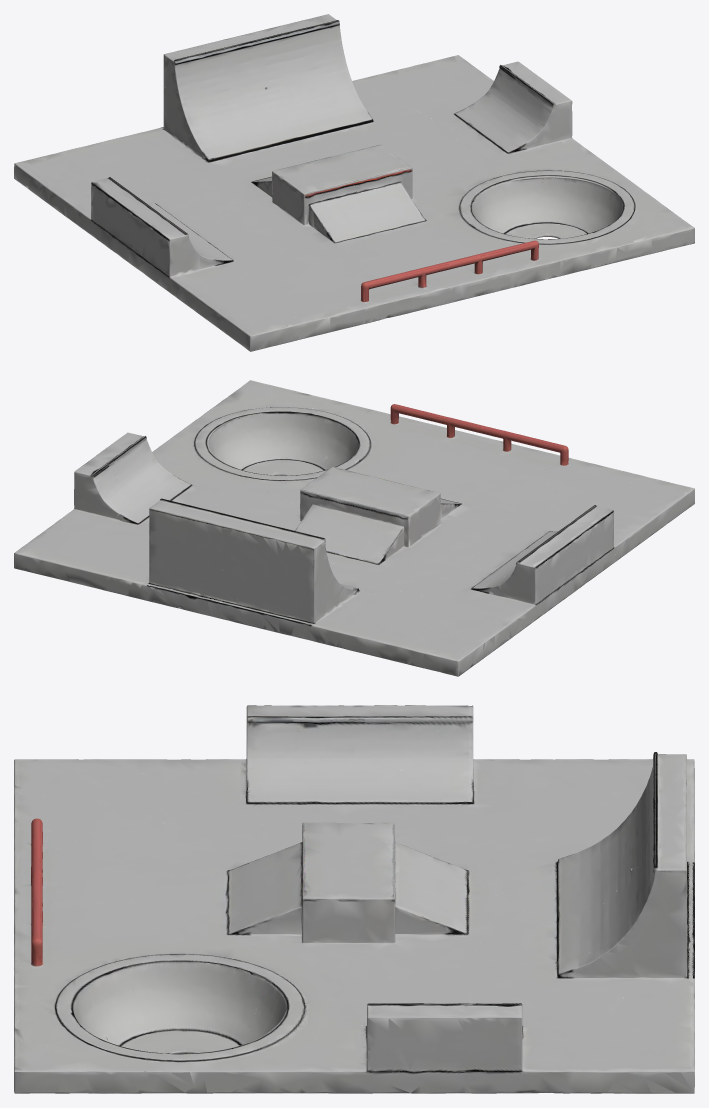
Rendered from skatepark.glb.
3 views of the same model, one above another, from view 1: azimuth 30°, elevation 25°; view 2: azimuth 150°, elevation 25°; view 3: azimuth 270°, elevation 25° (orthographic). The views are drawn at different scales.
Visible parts, largest first — view 1: tripo_node_34da0eb0-0d4b-4e2d-b688-d4970900a2f0; view 2: tripo_node_34da0eb0-0d4b-4e2d-b688-d4970900a2f0; view 3: tripo_node_34da0eb0-0d4b-4e2d-b688-d4970900a2f0.
Boxes of the visible parts, x1=… form: tripo_node_34da0eb0-0d4b-4e2d-b688-d4970900a2f0: x1=14, y1=14, x2=694, y2=351; tripo_node_34da0eb0-0d4b-4e2d-b688-d4970900a2f0: x1=14, y1=380, x2=694, y2=676; tripo_node_34da0eb0-0d4b-4e2d-b688-d4970900a2f0: x1=14, y1=705, x2=694, y2=1093.
Size of the model in its own units: 1 by 0.2465 by 0.921.
Materials: 1 (1 with a texture image).
